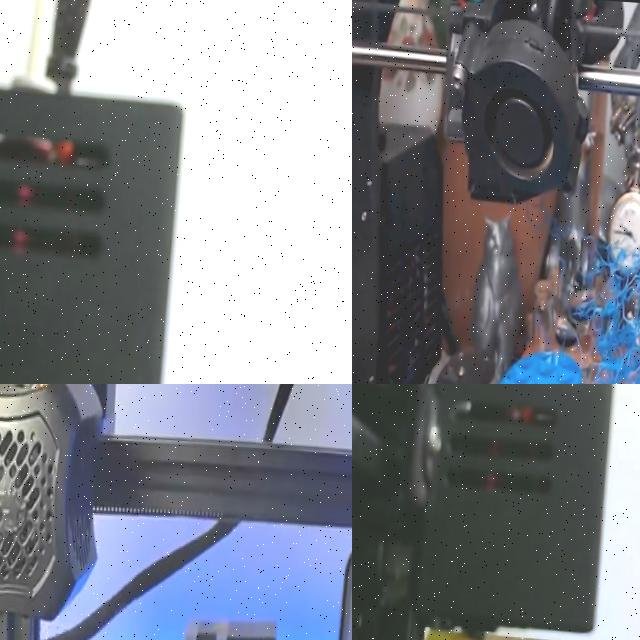spaghetti: (409, 620, 515, 640)
